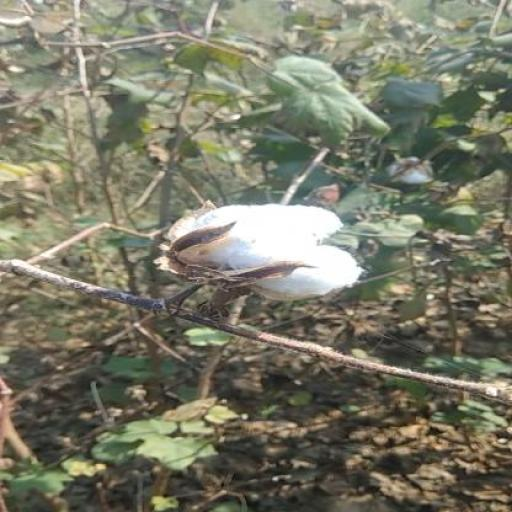cotton_ready: (136, 201, 378, 348)
